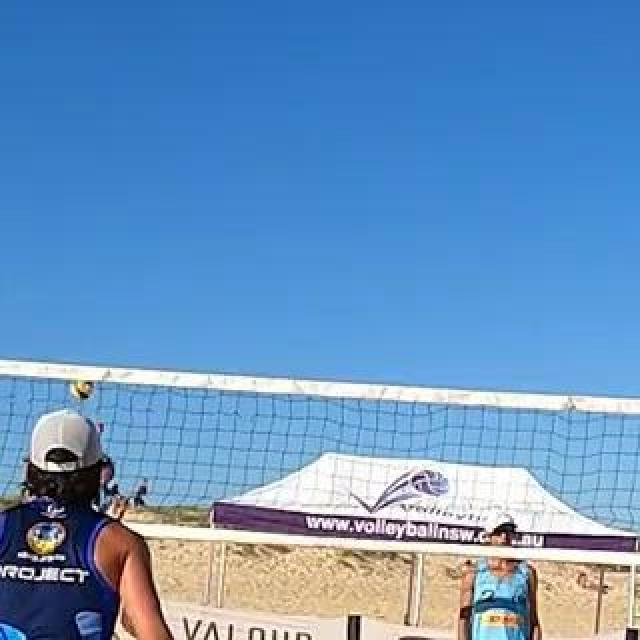volleyball: (72, 381, 96, 401)
